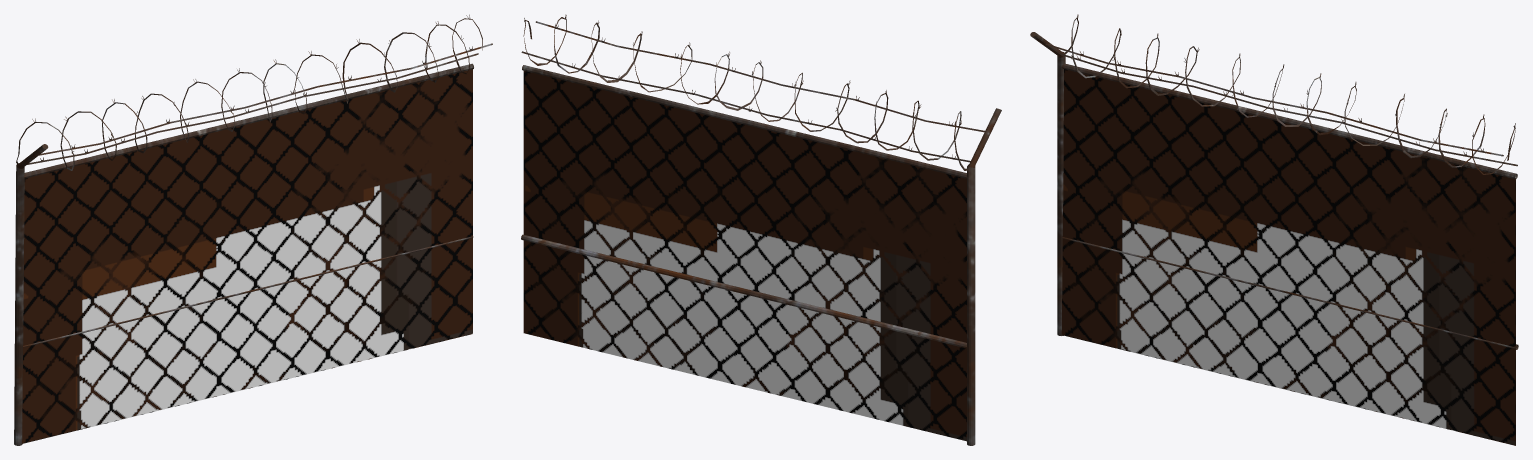
File: Barbedwirefence_secondary.fbx
3 renders of one model, left to right at view 1: azimuth 30°, elevation 25°; view 2: azimuth 150°, elevation 25°; view 3: azimuth 330°, elevation 25°, orthographic.
Parts seen in each view (by area): view 1: polySurface133, polySurface89, polySurface88, polySurface118, polySurface90, polySurface91, polySurface124, polySurface87; view 2: polySurface87, polySurface88, polySurface89, polySurface90, polySurface118, polySurface91, polySurface124; view 3: polySurface133, polySurface89, polySurface118, polySurface88, polySurface90, polySurface91, polySurface124, polySurface87.
Boxes of the visible parts, box(x1,y1,x2,y2) form: polySurface133: box(22, 69, 472, 443); polySurface89: box(24, 63, 473, 178); polySurface88: box(14, 144, 48, 445); polySurface118: box(16, 18, 482, 170); polySurface90: box(23, 236, 473, 347); polySurface91: box(39, 43, 492, 155); polySurface124: box(27, 53, 478, 164); polySurface87: box(22, 334, 471, 443); polySurface87: box(523, 71, 966, 441); polySurface88: box(967, 108, 1001, 445); polySurface89: box(522, 65, 967, 178); polySurface90: box(521, 234, 966, 348); polySurface118: box(523, 17, 968, 170); polySurface91: box(535, 21, 984, 132); polySurface124: box(521, 51, 970, 162); polySurface133: box(1061, 69, 1515, 445); polySurface89: box(1061, 63, 1517, 179); polySurface118: box(1065, 17, 1515, 174); polySurface88: box(1030, 32, 1065, 335); polySurface90: box(1062, 237, 1518, 349); polySurface91: box(1045, 43, 1503, 156); polySurface124: box(1061, 53, 1517, 166); polySurface87: box(1063, 179, 1515, 445).
Bounding box in the file's own units: 82.45 × 55.24 × 11.25.
